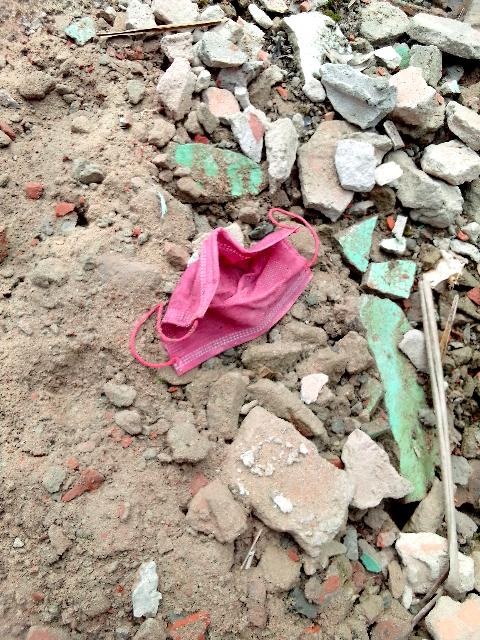mask: (180, 223, 297, 380)
